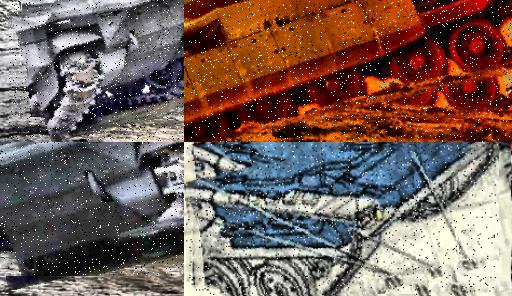tanks: (188, 146, 499, 296), (185, 1, 512, 143), (11, 1, 185, 142), (1, 143, 185, 276)
